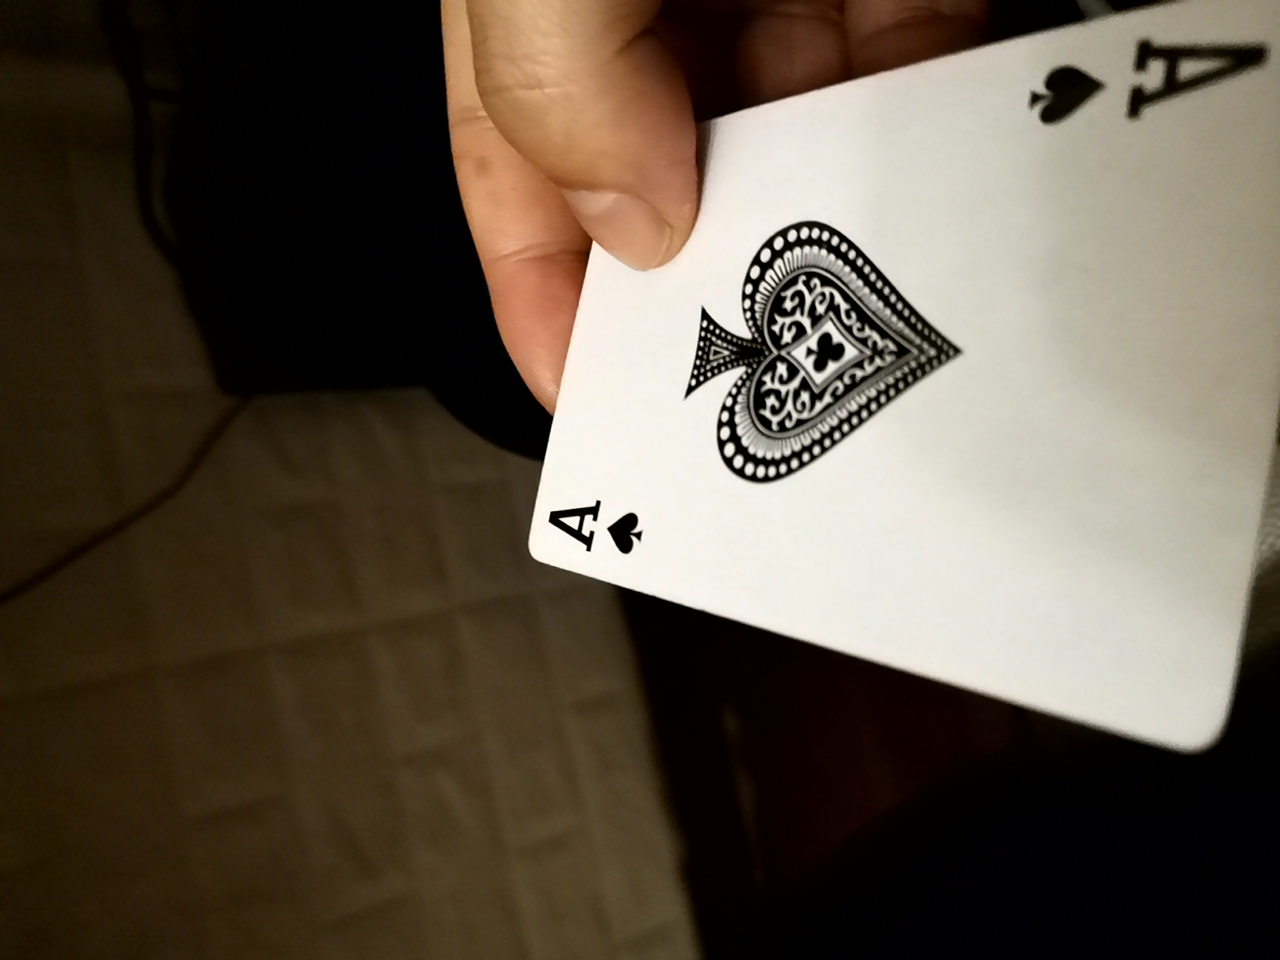ht a: (499, 18, 1266, 791)
